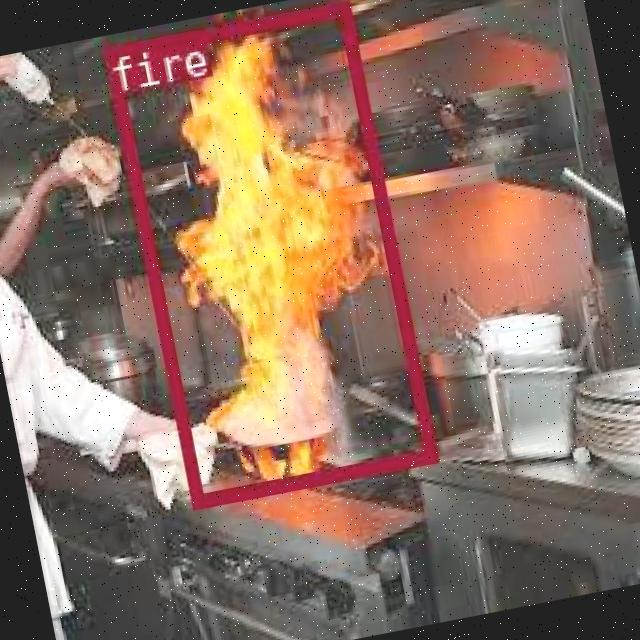fire: (101, 0, 436, 507)
